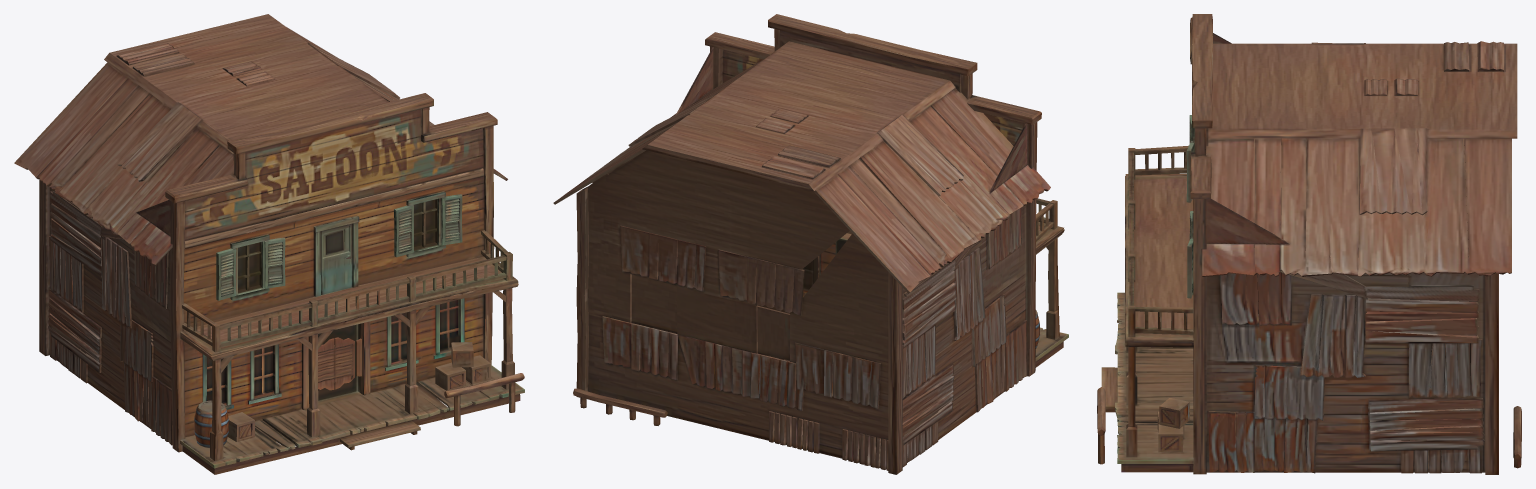
Rendered from wl_saloon.glb.
3 renders of one model, left to right at view 1: azimuth 30°, elevation 25°; view 2: azimuth 150°, elevation 25°; view 3: azimuth 270°, elevation 25°, orthographic. The views are drawn at different scales.
Visible parts, largest first — view 1: wl_saloon; view 2: wl_saloon; view 3: wl_saloon.
Boxes of the visible parts, bbox=[...] form: wl_saloon: bbox=[14, 14, 524, 474]; wl_saloon: bbox=[553, 14, 1068, 474]; wl_saloon: bbox=[1097, 14, 1521, 474].
Bounding box in the file's own units: 10.83 × 8.5 × 10.14.
Materials: 1 (1 with a texture image).
